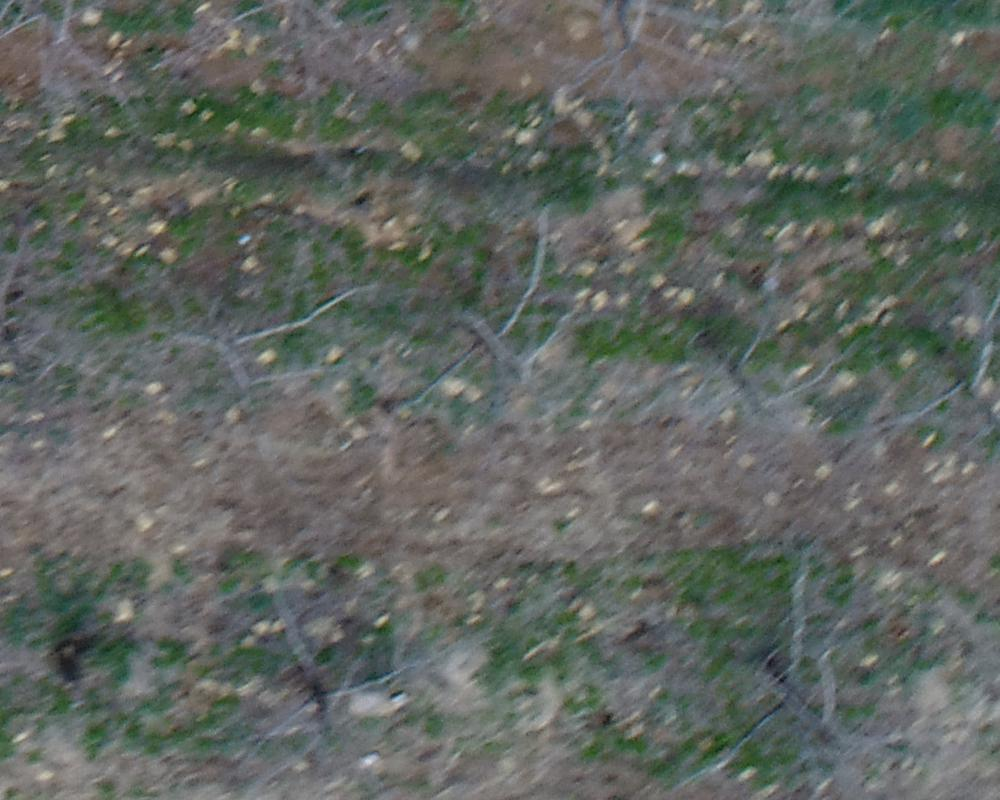apple: (682, 566, 907, 790), (387, 222, 577, 422), (148, 262, 378, 401), (654, 257, 820, 446), (545, 10, 774, 136), (194, 10, 406, 136), (254, 583, 408, 738), (891, 222, 990, 450), (10, 205, 86, 375)
